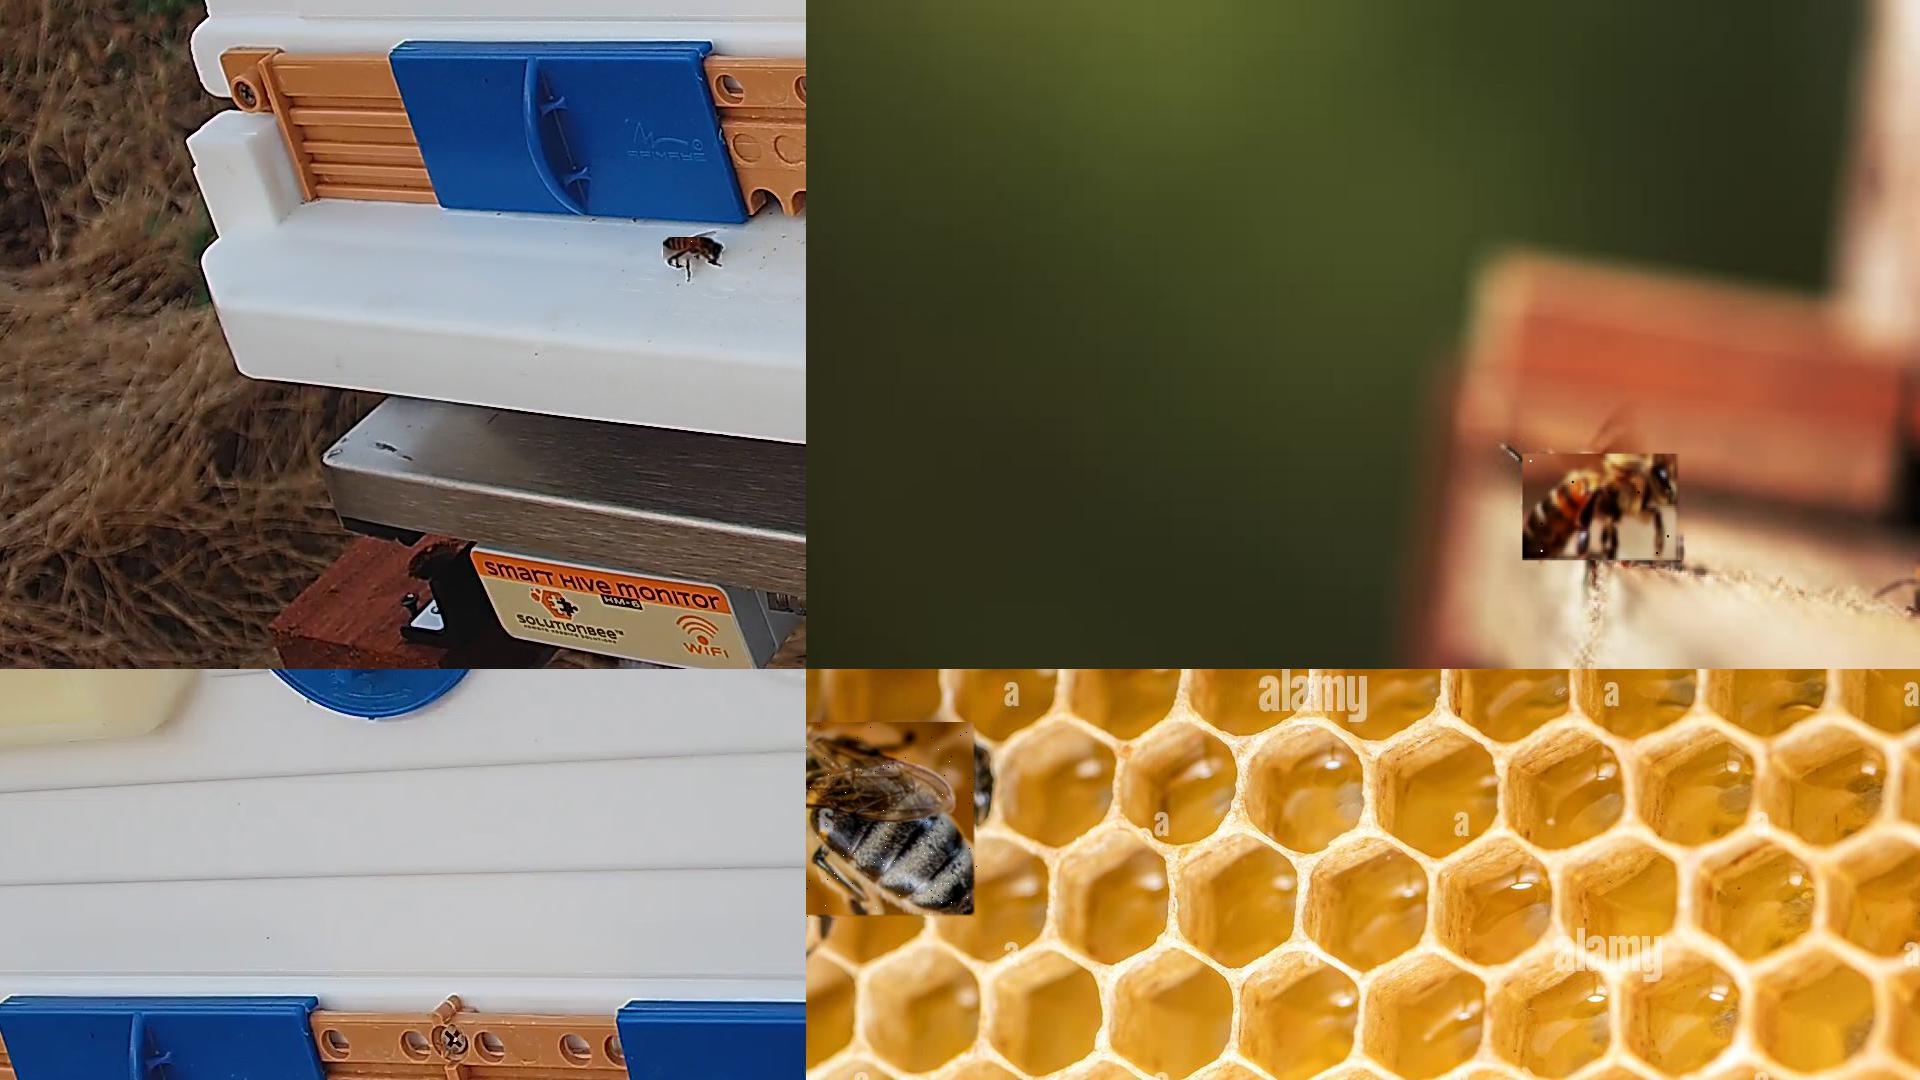bee: (806, 723, 978, 920), (1524, 454, 1685, 563), (663, 237, 723, 264)
